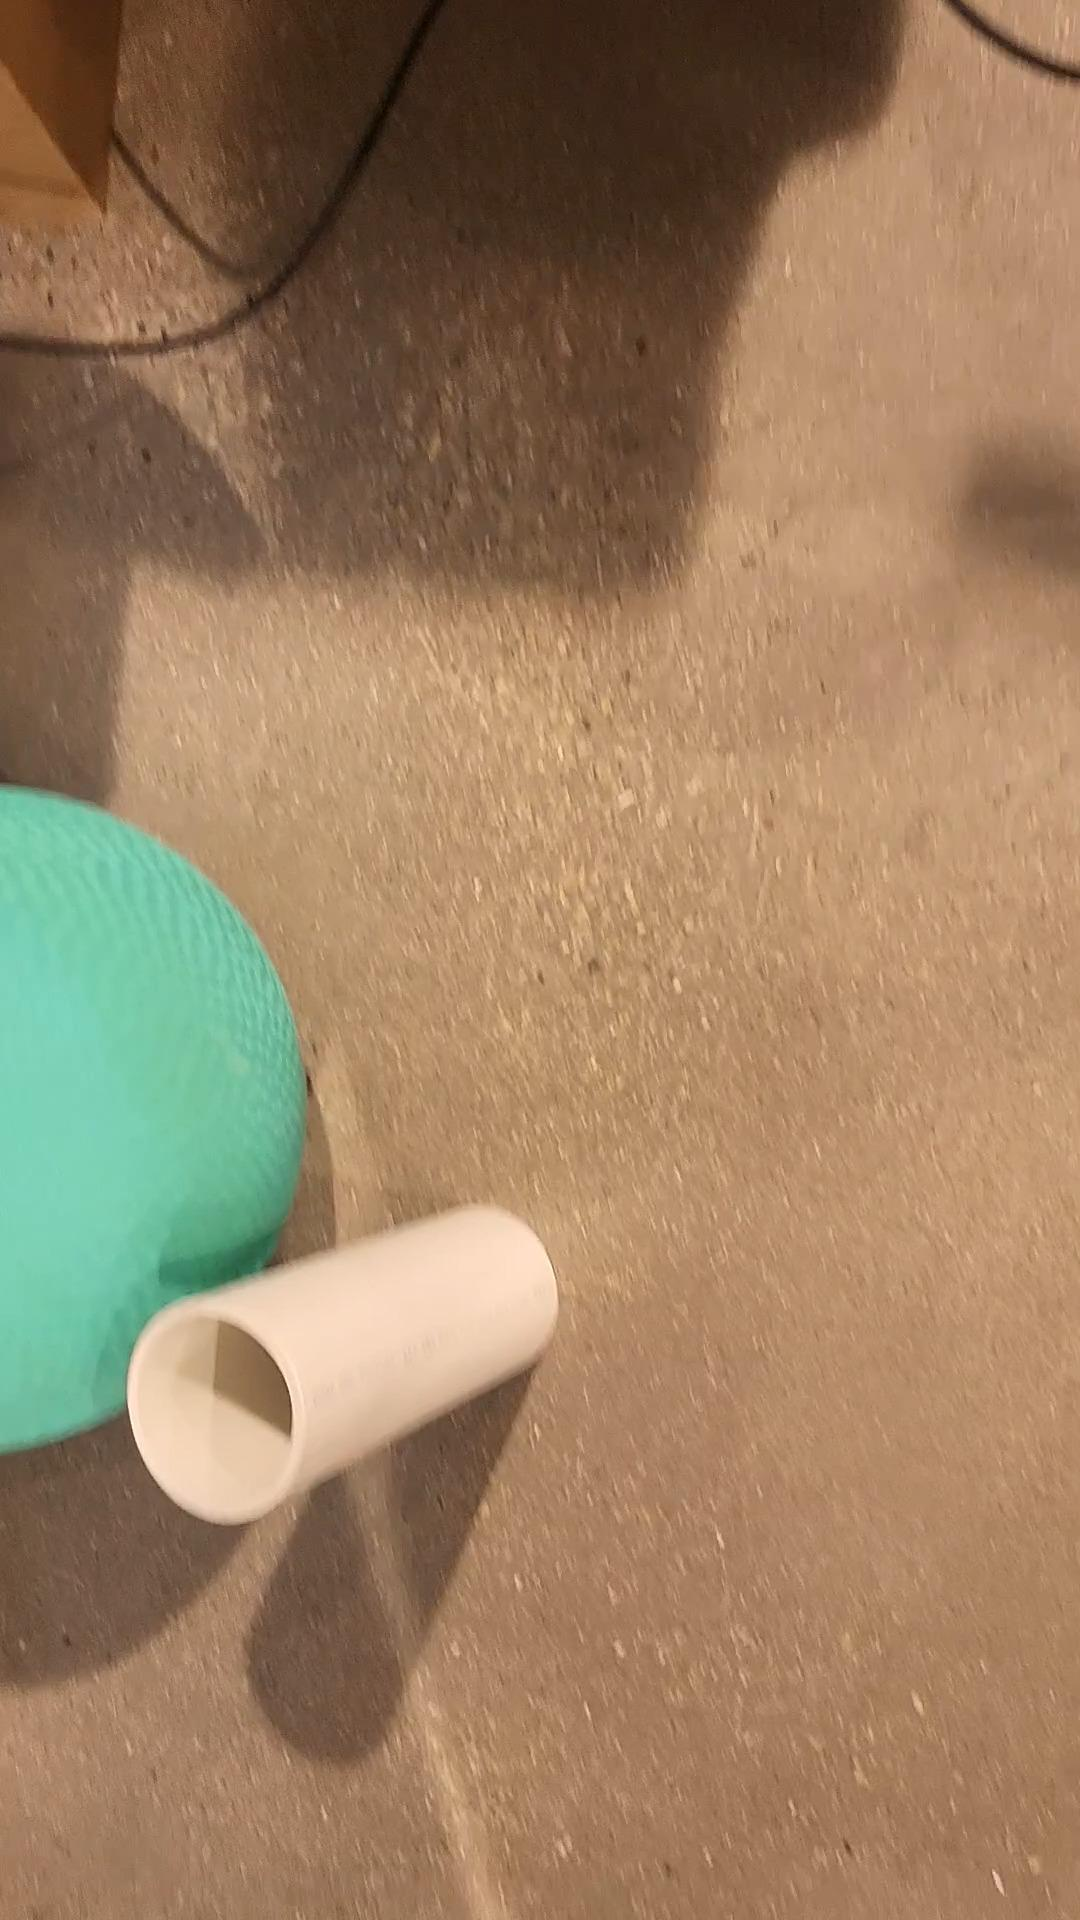algae: (0, 785, 303, 1453)
coral: (132, 1205, 558, 1523)
